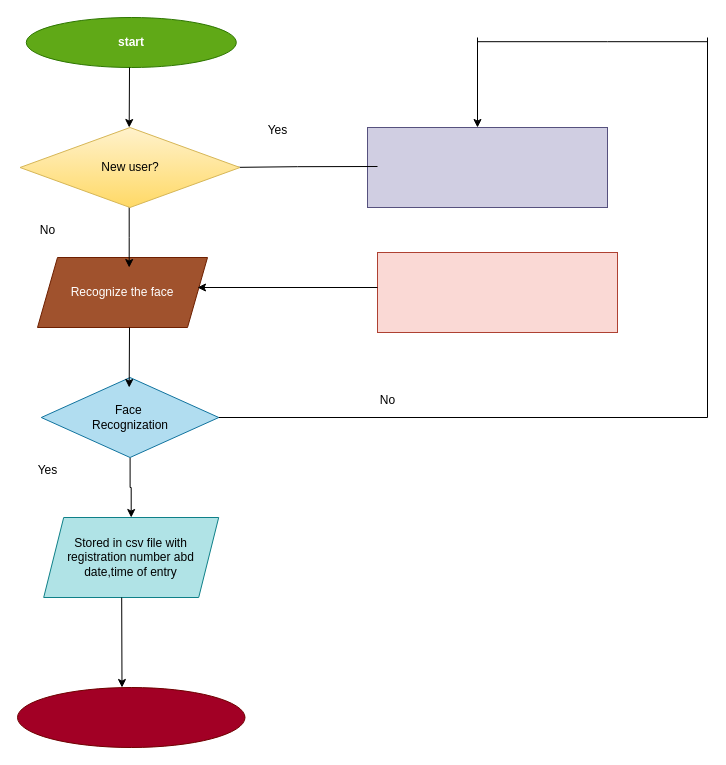
Image size: 726x765. Some labels were removed from this diagram. The shapes that lost their labels are listed below. From the top down, each one's centre as x and y in pixels, then its label:
the point at 487,167: Give your photograph
the point at 497,292: Store the face date in folder on your name
the point at 130,717: End
